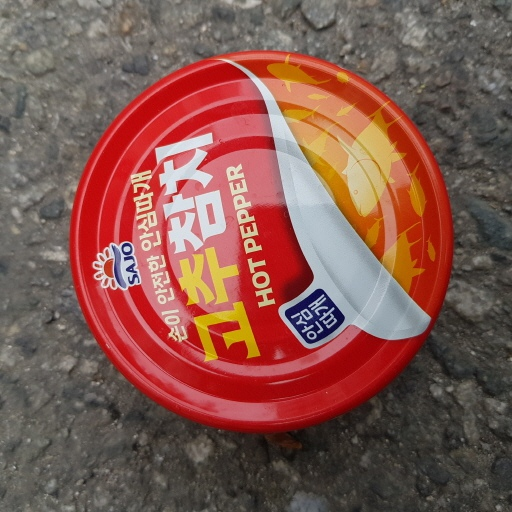Metal_1: (67, 46, 457, 438)
